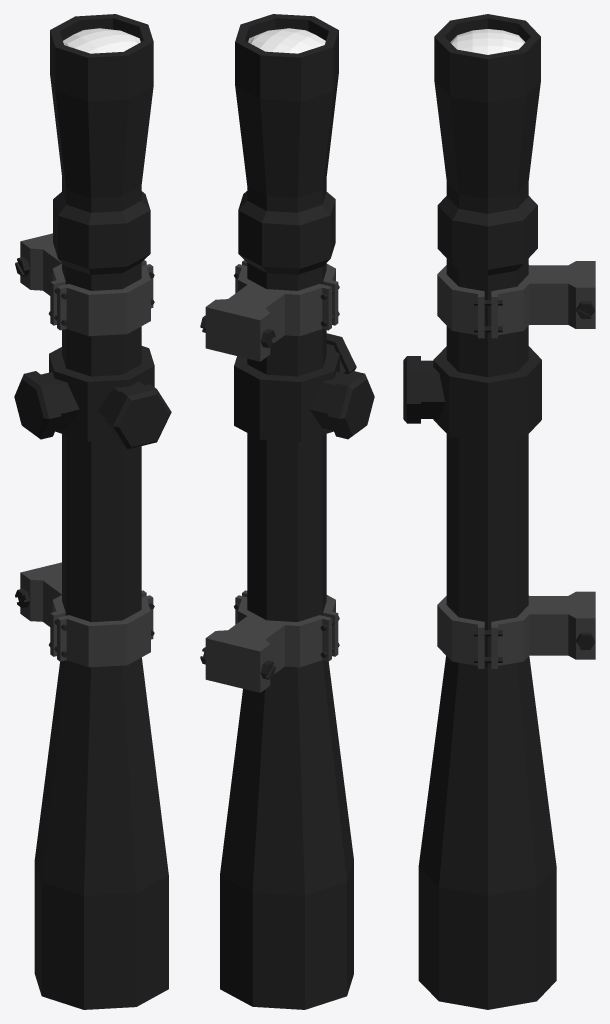
Rendered from PistolScope.glb.
3 renders of one model, left to right at view 1: azimuth 30°, elevation 25°; view 2: azimuth 150°, elevation 25°; view 3: azimuth 270°, elevation 25°, orthographic.
Parts seen in each view (by area): view 1: PistolScope; view 2: PistolScope; view 3: PistolScope.
Boxes of the visible parts, left/top/right/bottom form: PistolScope: left=14, top=14, right=171, bottom=1009; PistolScope: left=200, top=14, right=374, bottom=1009; PistolScope: left=403, top=14, right=595, bottom=1009.
Size of the model in its own units: 1.13 by 7.68 by 1.42.
1 material, 1 textured.
